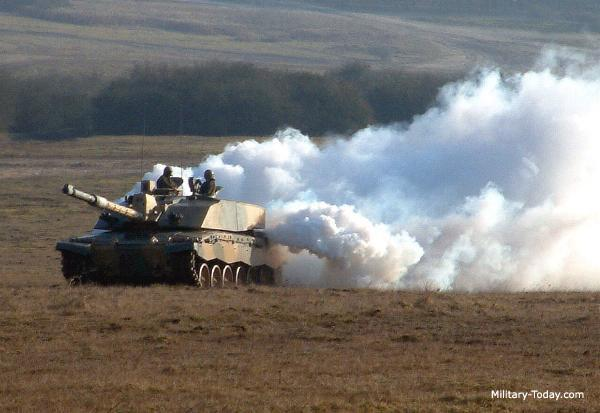person: (195, 171, 223, 197), (154, 166, 178, 192)
tank: (48, 185, 296, 297)
